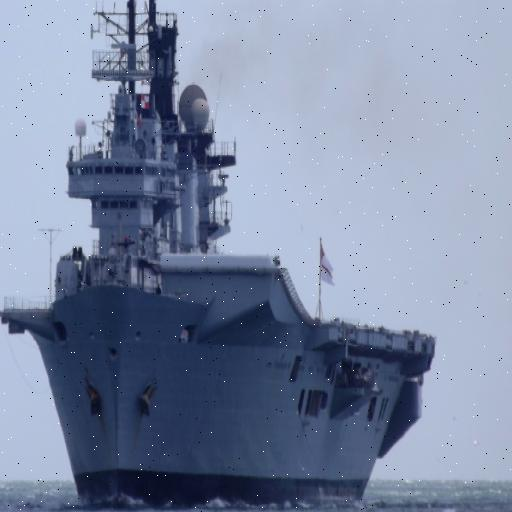Portanaves: (1, 1, 439, 512)
